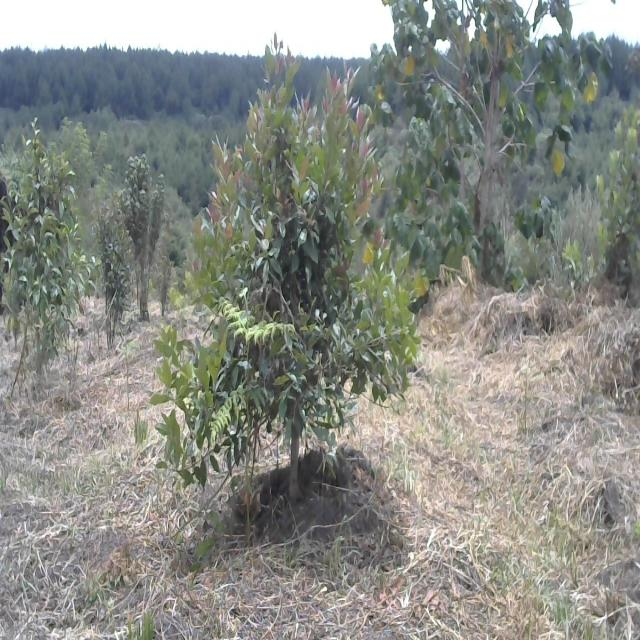Lemon Myrtle: (0, 115, 83, 392)
Syzygium gineense: (144, 46, 430, 521)
other: (378, 0, 603, 303), (89, 189, 133, 361), (129, 147, 166, 293)
